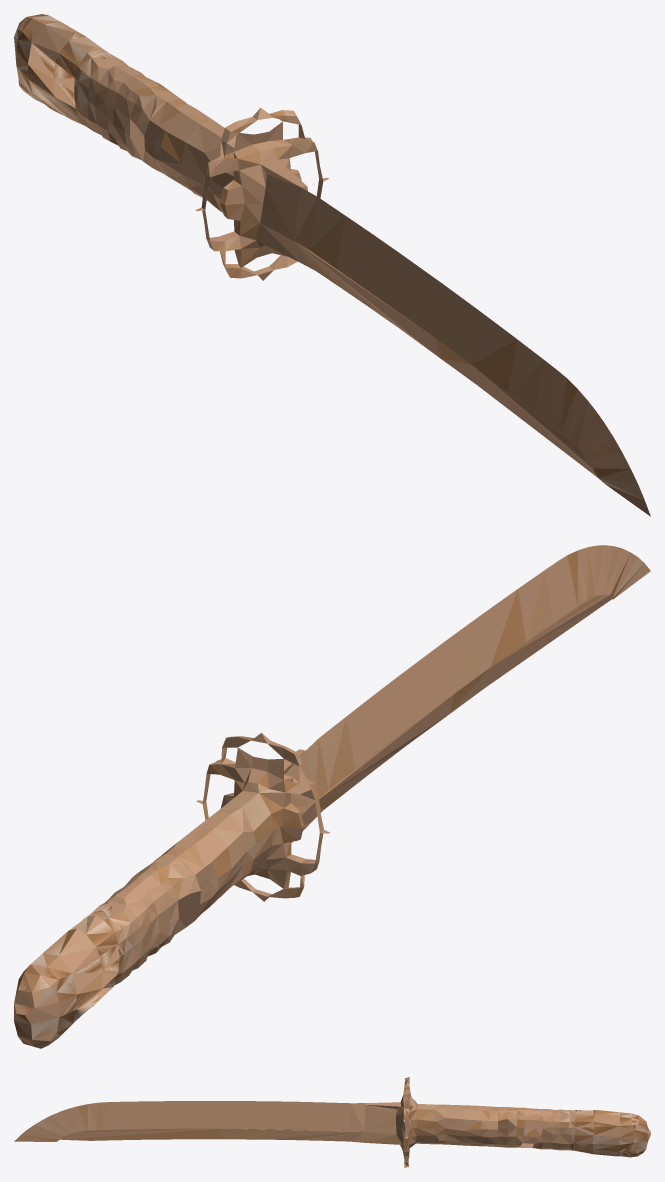
Rendered from model_align.obj.
3 renders of one model, top to bottom at view 1: azimuth 30°, elevation 25°; view 2: azimuth 150°, elevation 25°; view 3: azimuth 270°, elevation 25°, orthographic. The views are drawn at different scales.
Size of the model in its own units: 0.027 by 0.0333 by 0.2218.
